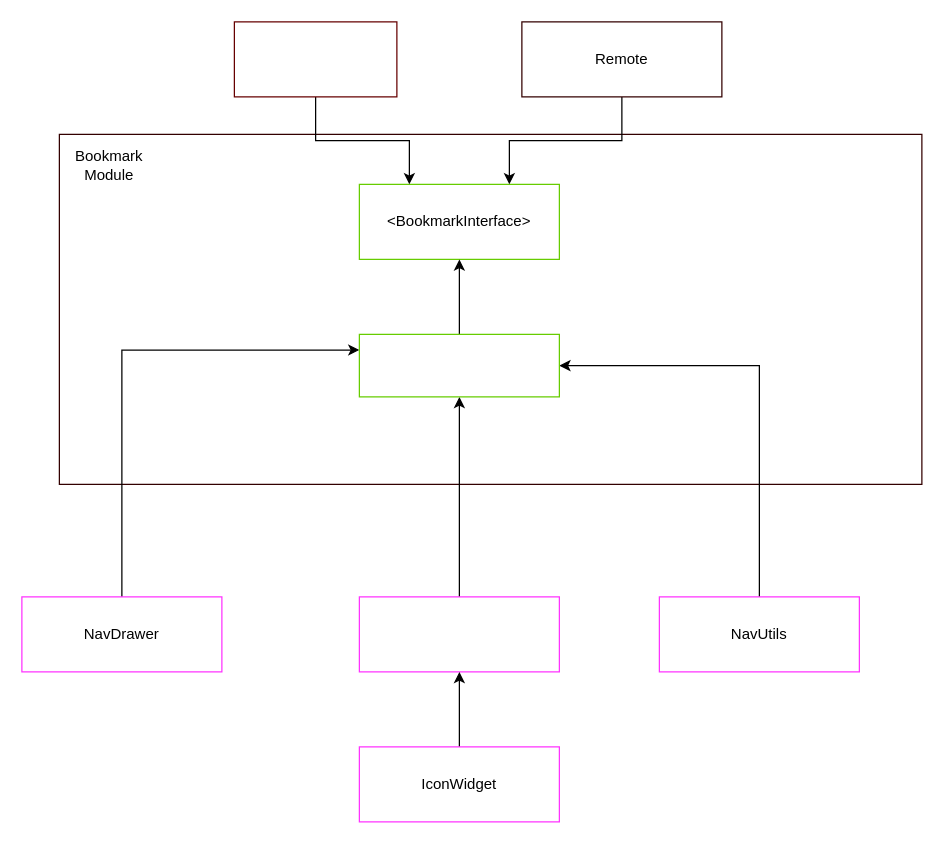
Image size: 944x844. Some labels were removed from this diagram. Each missing label, with the centre of its shape:
"AyatScreen" goes at [458,634].
"Bookmarks Manager" goes at [458,365].
"Local" goes at [315,59].
